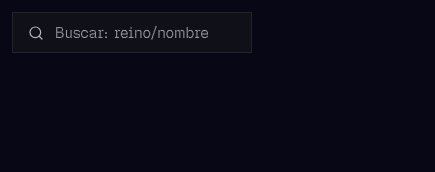
Test case: QuickSearch › shows an accessible error and does not navigate on invalid input
Step 1. Type "billiemoi" into the field named "Buscar personaje" → (132, 32), box [12,12,252,53]
Then press Enter
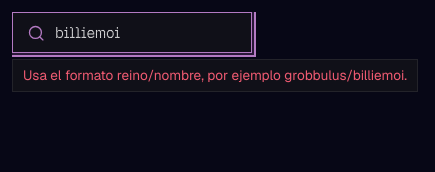
Now the message shows "Usa el formato reino/nombre", box [23,66,407,84]
